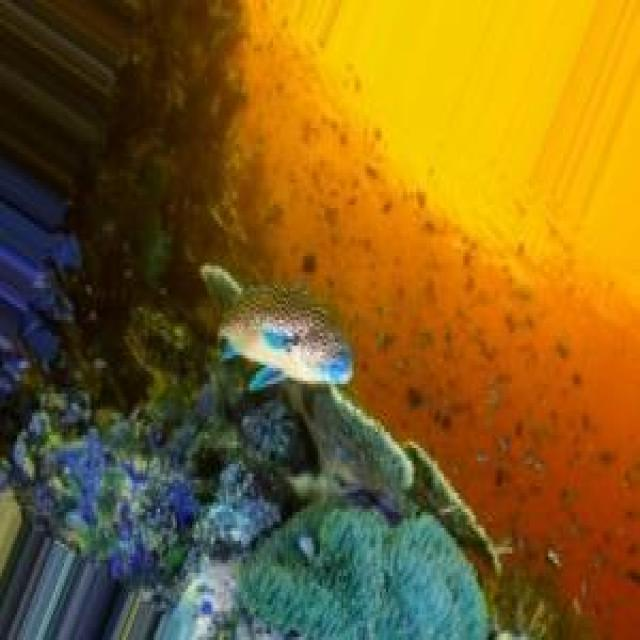Healthy: (12, 311, 338, 596), (315, 391, 504, 609), (240, 494, 509, 640)
